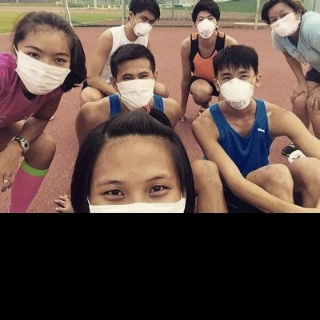with_mask: (88, 174, 186, 213), (16, 43, 72, 95), (116, 71, 156, 111), (220, 70, 256, 108), (270, 9, 299, 38), (195, 14, 219, 38), (132, 14, 155, 37)
